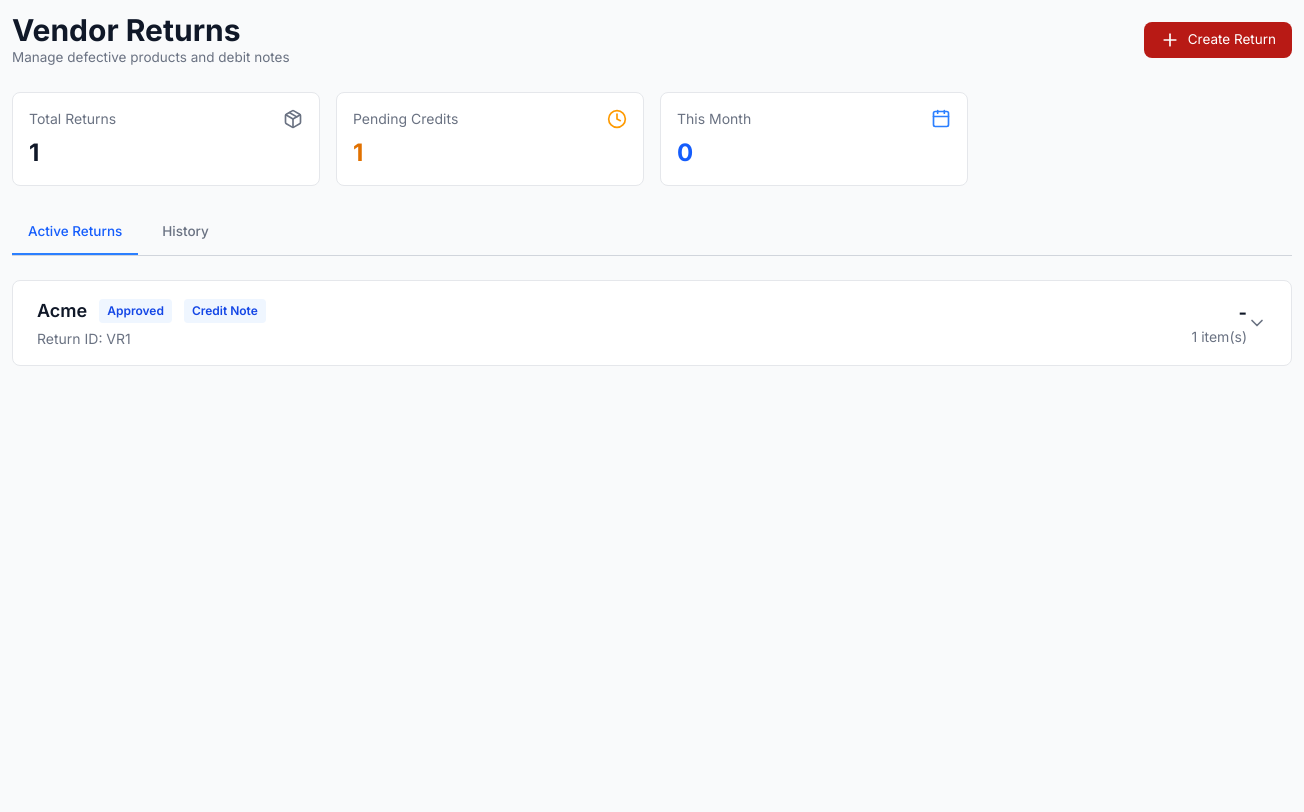
Test case: VendorReturns money display › never shows the prices to WORKSHOP_STAFF, even when the answer carries them
The image size is (1304, 812).
Click the heading "Acme": (62, 311) left=37, top=297, right=87, bottom=325
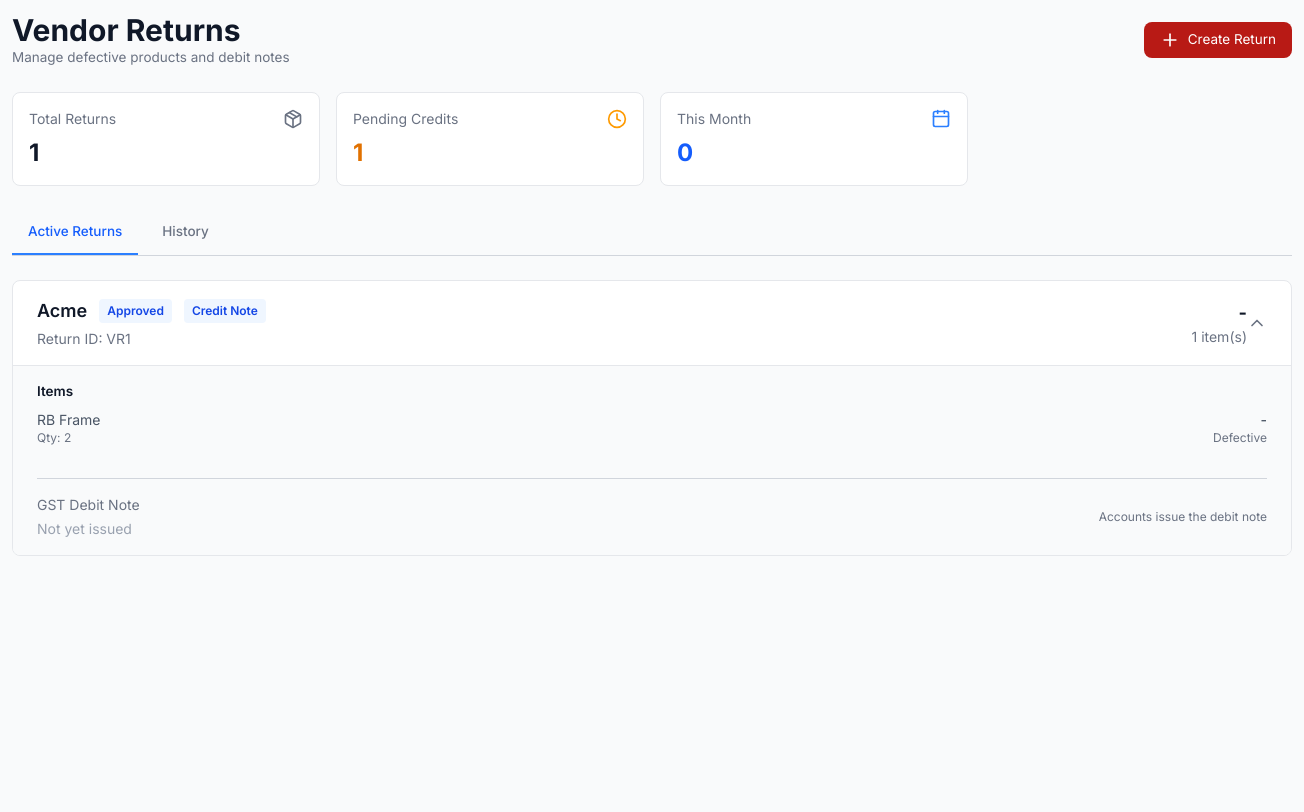
Now the text "Qty: 2" is shown, box left=37, top=430, right=71, bottom=445
